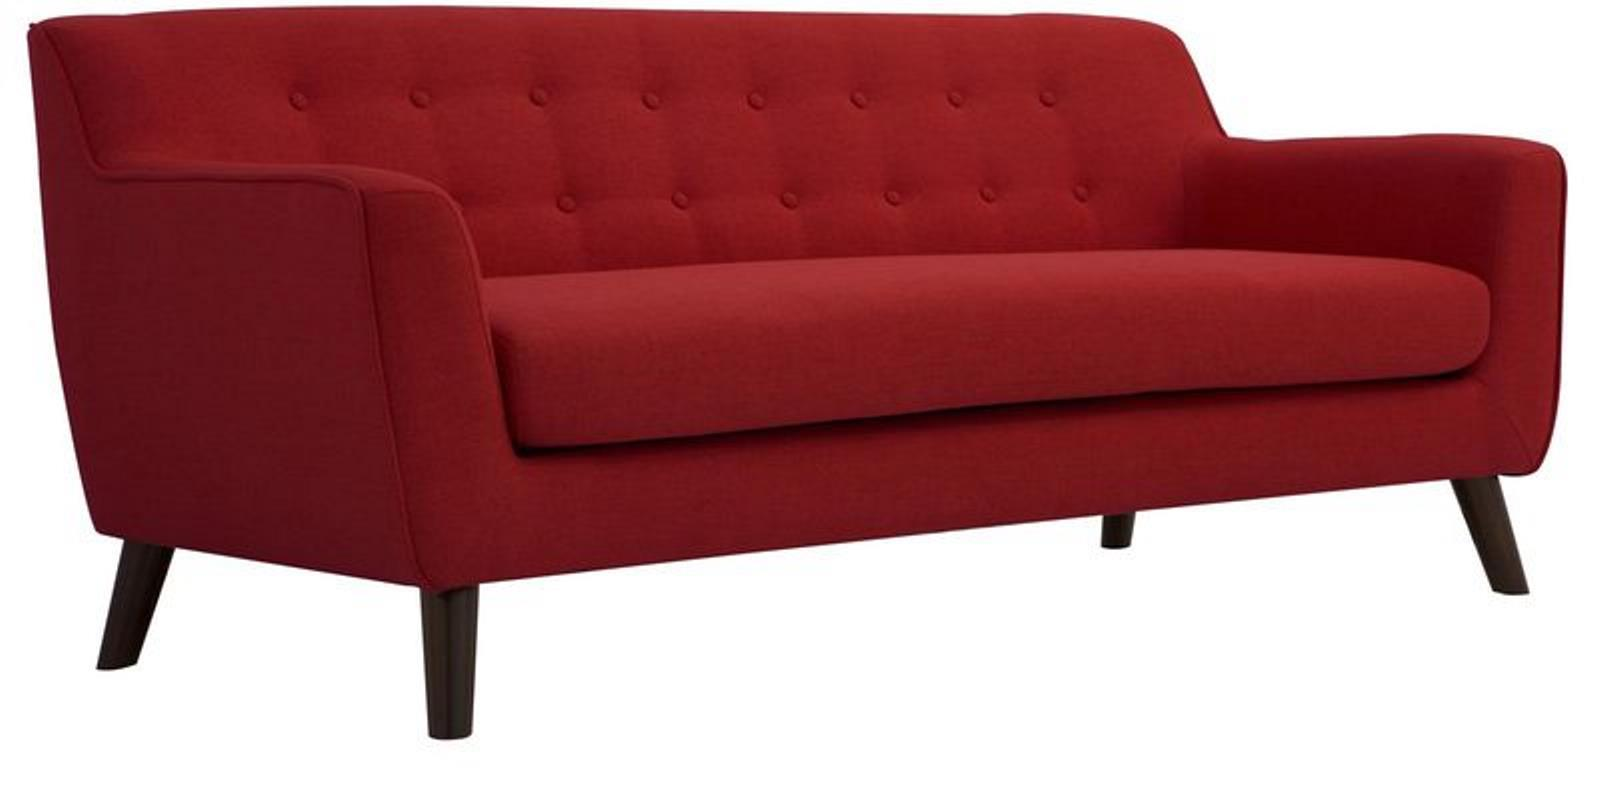Bogota Three Seater Sofa in Red Colour by CasaCraft: (11, 10, 1600, 676)
